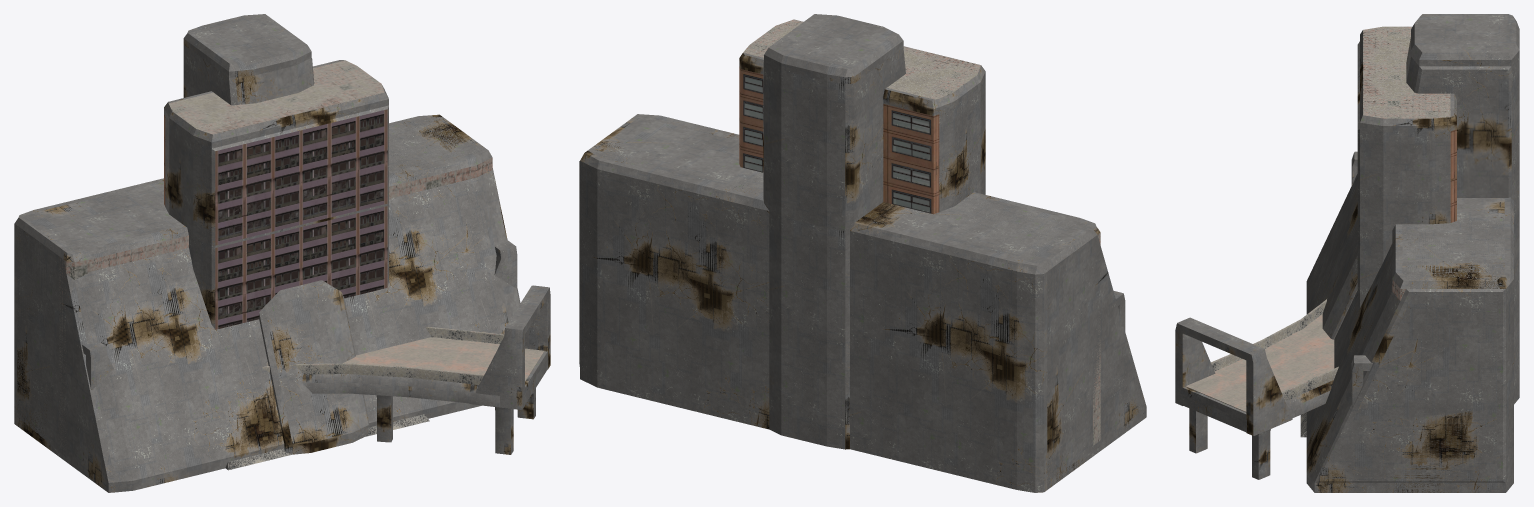
Rendered from bigbil_set_03.fbx.
3 renders of one model, left to right at view 1: azimuth 30°, elevation 25°; view 2: azimuth 150°, elevation 25°; view 3: azimuth 270°, elevation 25°, orthographic. The views are drawn at different scales.
Parts seen in each view (by area): view 1: bgf_w03, bgf_a03, bgf_w01, bgf_w06, bgf_a02, bgf_w04, bgf_w07, bgf_w05; view 2: bgf_w04, bgf_w01, bgf_w03, bgf_a03, bgf_w07; view 3: bgf_w03, bgf_w04, bgf_w01, bgf_a03, bgf_w06, bgf_a02, bgf_w07, bgf_w05.
Boxes of the visible parts, x1,y1,x2,y2 form: bgf_w03: (17, 116, 520, 492); bgf_a03: (164, 60, 388, 329); bgf_w01: (183, 14, 368, 454); bgf_w06: (262, 285, 550, 454); bgf_a02: (187, 203, 388, 329); bgf_w04: (14, 114, 481, 487); bgf_w07: (59, 147, 492, 449); bgf_w05: (82, 240, 517, 390); bgf_w04: (579, 119, 1143, 492); bgf_w01: (763, 14, 905, 449); bgf_w03: (588, 117, 1146, 489); bgf_a03: (739, 19, 985, 214); bgf_w07: (634, 114, 1100, 445); bgf_w03: (1306, 174, 1504, 492); bgf_w04: (1300, 197, 1513, 492); bgf_w01: (1322, 14, 1519, 404); bgf_a03: (1357, 26, 1456, 310); bgf_w06: (1175, 299, 1338, 479); bgf_a02: (1357, 221, 1394, 311); bgf_w07: (1392, 224, 1418, 492); bgf_w05: (1351, 151, 1372, 406).
Bounding box in the file's own units: 331 × 262 × 227.
